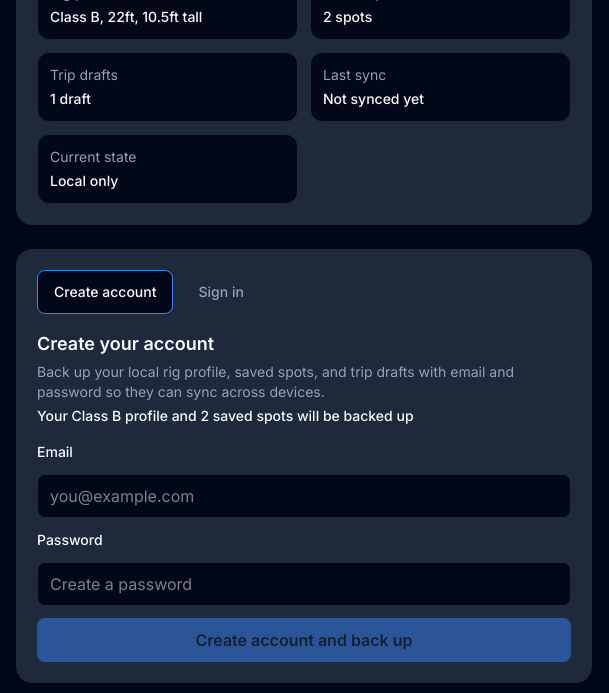
Test: AccountScreen › shows a confirmation message when email verification is required
The width and height of the screenshot is (609, 693).
(page scrolled)
Type "user@example.com" into the field labelled "Email" at (304, 496), box 37,474 -> 571,518
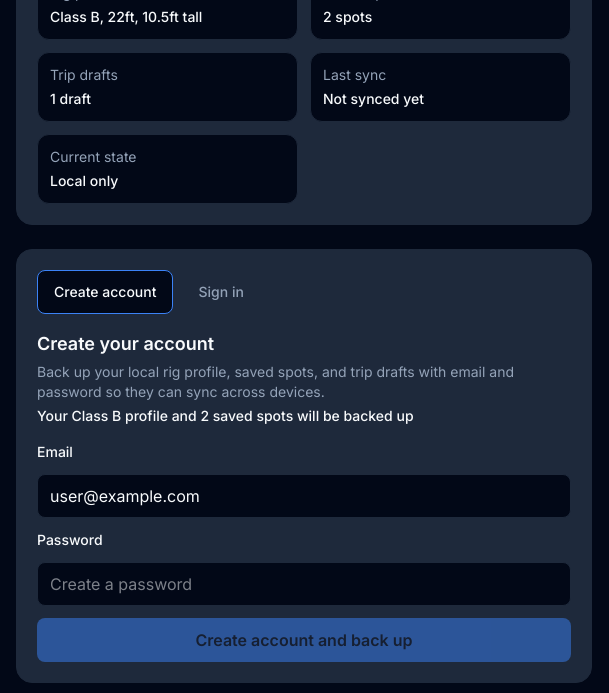
Type "password123" into the password field labelled "Password" at (304, 584), box 37,562 -> 571,606
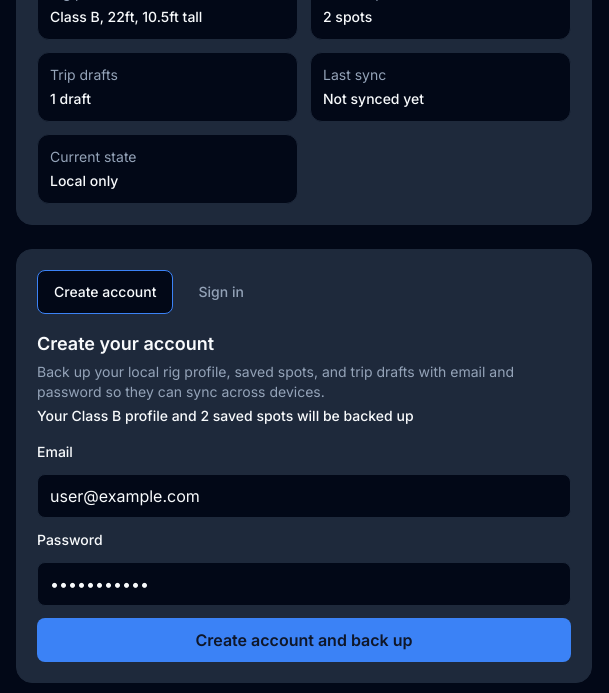
Submit the form "Email Password Create account and back up", box 37,442 -> 571,662
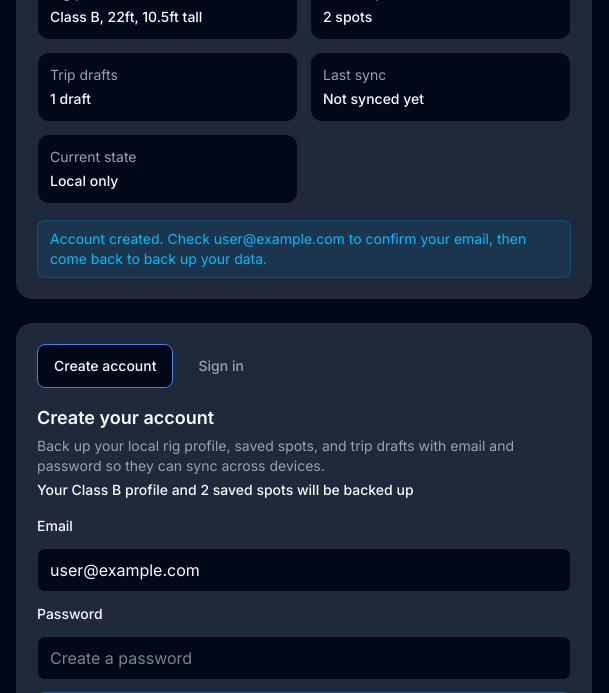
Expected: the message shows "Account created. Check user@example.com to confirm your email, then come back to back up your data.", 50,230 -> 526,267
Expected: the password field labelled "Password" is empty, 37,636 -> 571,680
